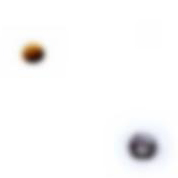cancer: (105, 111, 175, 174)
normal: (9, 33, 62, 71)
